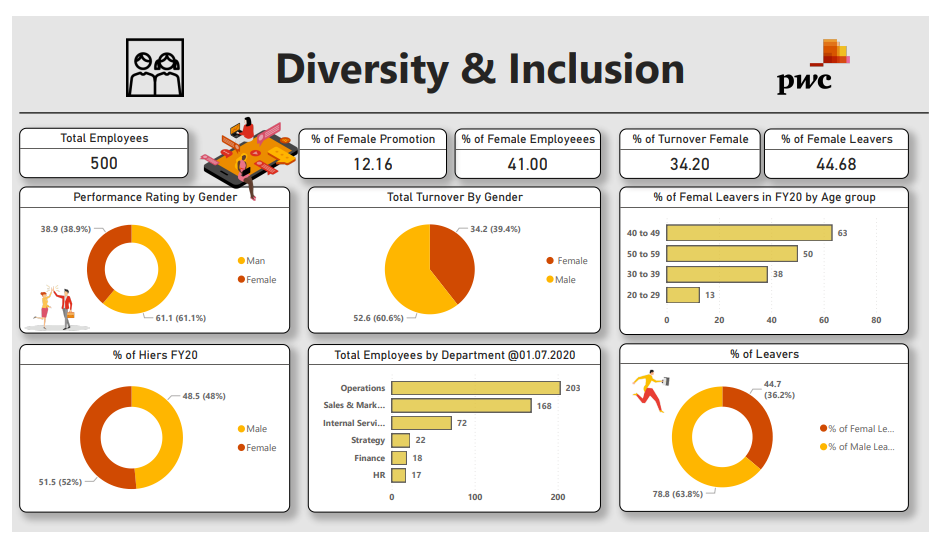

The page's visual inventory and layout, read from the dashboard file:
{"tool":"powerbi","page":{"name":"Page 1","canvas":[1280,720],"ordinal":0},"visuals":[{"type":"card","title":"Total Employees","fields":{"Values":["Pharma Group AG.Total Employees"]},"box":[10,156.2,236.2,70],"z":0},{"type":"barChart","fields":{"Category":["Pharma Group AG.Age group"],"Y":["Pharma Group AG.% of Femal Leavers in FY20"]},"box":[848.3,238.3,403.3,206.7],"z":1000},{"type":"card","title":"% of Female Employeees","fields":{"Values":["Pharma Group AG.% of Female Employees"]},"box":[618.3,156.7,203.3,70],"z":2000},{"type":"donutChart","title":"Performance Rating by Gender","fields":{"Y":["Combined Performance.% of Performance by Man combined","Combined Performance.% Performance Rating by Female combined"]},"box":[10,238.3,378.3,205],"z":3000},{"type":"pieChart","title":"Total Turnover By Gender","fields":{"Y":["Pharma Group AG.% of Turnover by Female","Pharma Group AG.% of Turnover by Male"]},"box":[413.3,238.3,408.3,205],"z":4000},{"type":"donutChart","title":"% of Leavers ","fields":{"Y":["Pharma Group AG.% of Femal Leavers in FY20","Pharma Group AG.% of Male Leavers in FY20"]},"box":[848.3,456.7,403.3,235],"z":5000},{"type":"barChart","fields":{"Category":["Pharma Group AG.Department @01.07.2020"],"Y":["Pharma Group AG.Total Employees"]},"box":[413.3,458.3,408.3,235],"z":6000},{"type":"donutChart","title":"% of Hiers FY20","fields":{"Y":["Pharma Group AG.% of Male Hires FY 20","Pharma Group AG.% of Female Hires FY 20"]},"box":[10,458.3,378.3,235],"z":7000},{"type":"card","title":"% of Female Promotion","fields":{"Values":["Pharma Group AG.% of Femal Promotion in FY21"]},"box":[400,156.7,206.7,70],"z":8000},{"type":"card","title":"% of  Turnover Female","fields":{"Values":["Pharma Group AG.% of Turnover by Female"]},"box":[848.3,156.7,196.7,70],"z":9000},{"type":"shape","box":[10,113.3,1270,43.3],"z":10000},{"type":"textbox","box":[224.2,25,858.3,90.8],"z":11000},{"type":"card","title":"% of Female Leavers","fields":{"Values":["Pharma Group AG.% of Femal Leavers in FY20"]},"box":[1050,156.7,201.7,70],"z":12000},{"type":"image","box":[200,98.3,278.3,186.7],"z":13000},{"type":"image","box":[957.8,0,322.2,142.2],"z":14000},{"type":"image","box":[5,357.9,114.3,98.6],"z":15000},{"type":"image","box":[857.8,456.7,66.7,128.9],"z":16000},{"type":"image","box":[153.8,17.5,90,107.5],"z":16001}]}

Visuals, with their boxes in screenshot pixels (x1, y1, x2, y2):
"Total Employees" card: BBox(12, 125, 183, 176)
barChart - Pharma Group AG.Age group x Pharma Group AG.% of Femal Leavers in FY20: BBox(620, 185, 912, 335)
"% of Female Employeees" card: BBox(453, 126, 601, 177)
"Performance Rating by Gender" donutChart: BBox(12, 185, 286, 334)
"Total Turnover By Gender" pieChart: BBox(305, 185, 601, 334)
"% of Leavers " donutChart: BBox(620, 343, 912, 514)
barChart - Pharma Group AG.Department @01.07.2020 x Pharma Group AG.Total Employees: BBox(305, 345, 601, 515)
"% of Hiers FY20" donutChart: BBox(12, 345, 286, 515)
"% of Female Promotion" card: BBox(295, 126, 445, 177)
"% of  Turnover Female" card: BBox(620, 126, 763, 177)
shape: BBox(12, 94, 933, 126)
textbox: BBox(167, 30, 790, 96)
"% of Female Leavers" card: BBox(766, 126, 912, 177)
image: BBox(150, 84, 352, 219)
image: BBox(699, 12, 933, 115)
image: BBox(9, 272, 91, 343)
image: BBox(627, 343, 675, 437)
image: BBox(116, 25, 182, 103)
